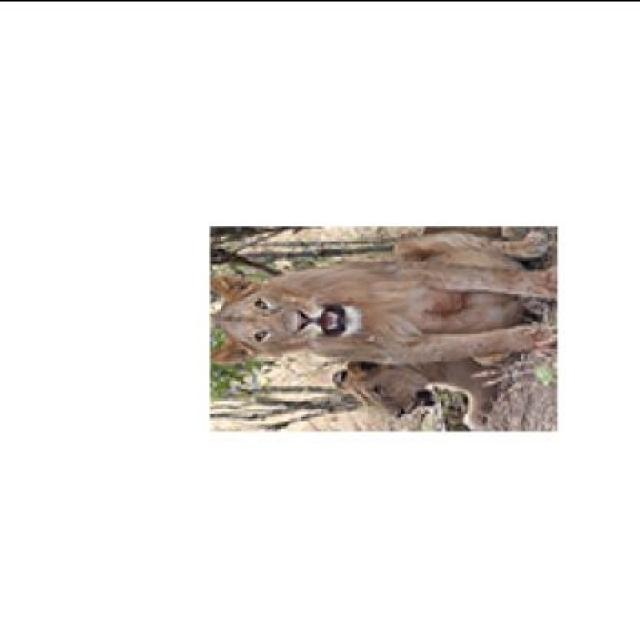Lion: (188, 223, 608, 442)
